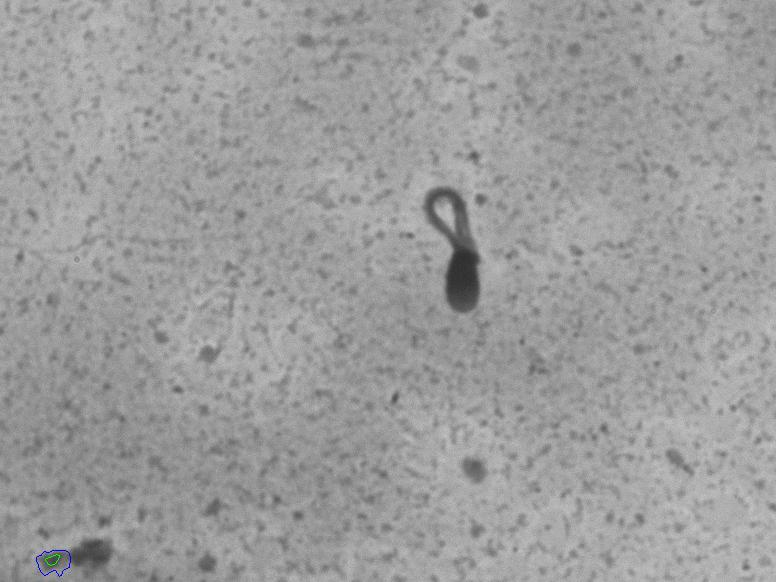Abnormal: (380, 151, 536, 348)
